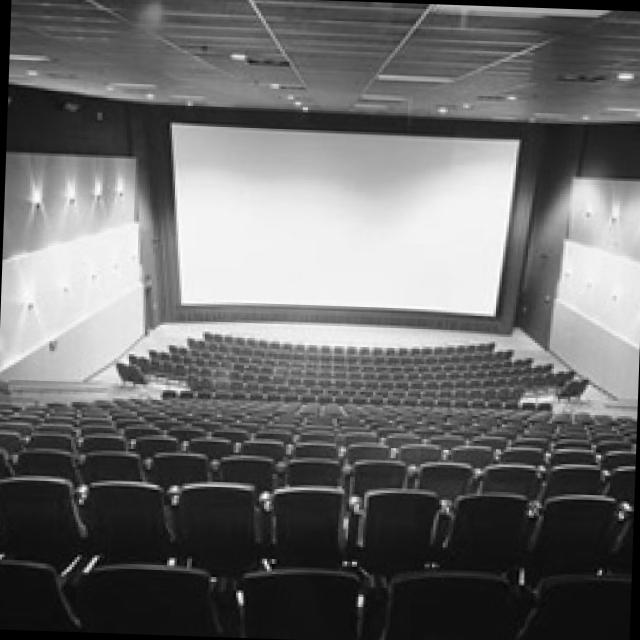ceiling beam: (11, 0, 640, 120)
floor -X: (93, 314, 605, 408)
lamp crop: (36, 190, 46, 205), (619, 70, 636, 78), (611, 208, 619, 223), (234, 52, 249, 60), (97, 182, 104, 197), (71, 189, 79, 201), (119, 186, 127, 196), (584, 207, 592, 217), (508, 94, 518, 102), (273, 81, 281, 88)
screen occluded: (155, 102, 547, 332)
seats crop: (0, 394, 637, 640), (119, 329, 591, 403)
staircase: (3, 376, 150, 402), (565, 394, 637, 416)
wall clock: (3, 82, 162, 379), (515, 120, 640, 399)
